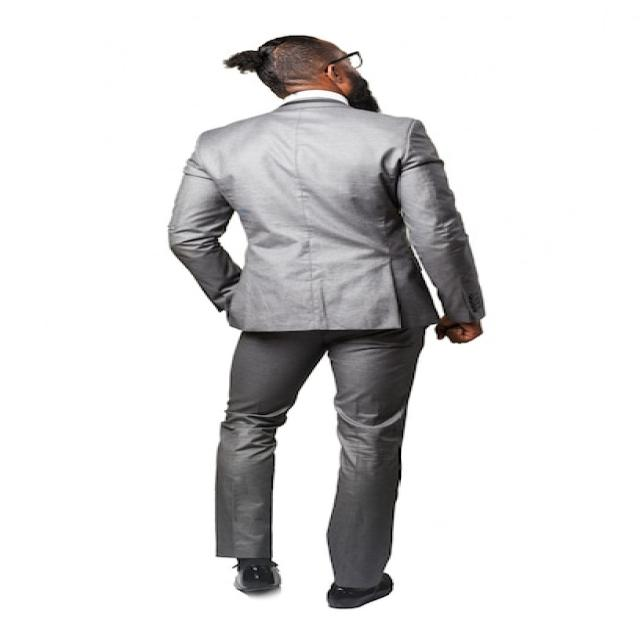Person: (171, 35, 484, 610)
